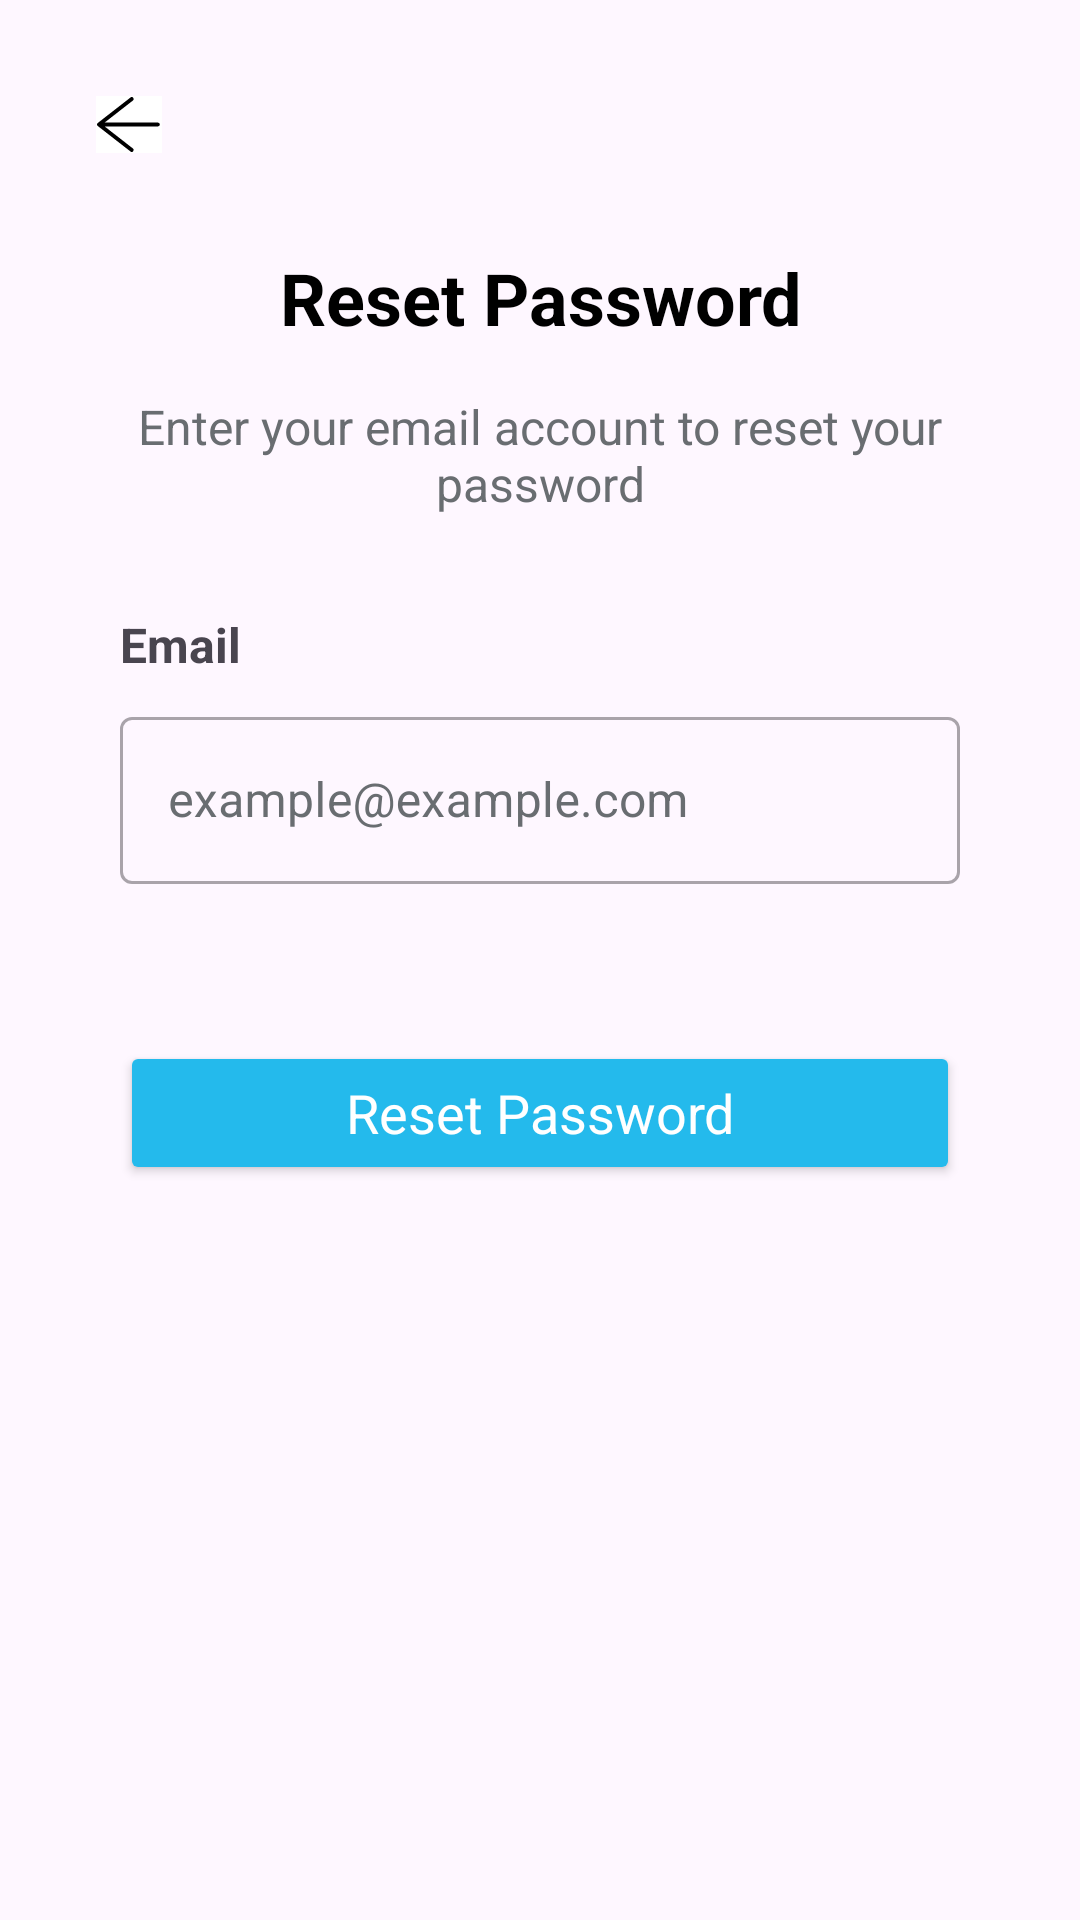

Screen size 1080x1920. Icon name, then its center in pixels as [x,y]:
arrow: [128,124]
